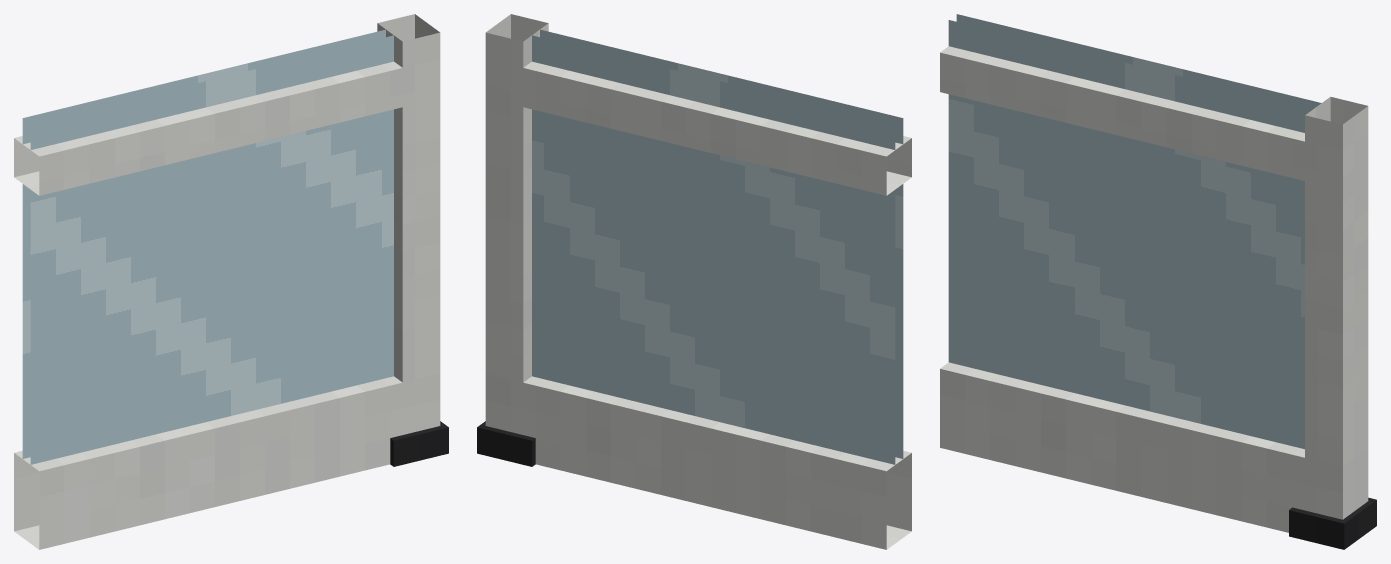
File: auto_door_wide_slider_white_c0_lower_right_open.obj
3 views of the same model, side by side, from view 1: azimuth 30°, elevation 25°; view 2: azimuth 150°, elevation 25°; view 3: azimuth 330°, elevation 25° (orthographic).
Visible parts, largest first — view 1: auto_door_wide_slider_white_c0_lower_right_open; view 2: auto_door_wide_slider_white_c0_lower_right_open; view 3: auto_door_wide_slider_white_c0_lower_right_open.
Part boxes in pixels (<box>): auto_door_wide_slider_white_c0_lower_right_open: <box>14,14,448,549</box>; auto_door_wide_slider_white_c0_lower_right_open: <box>477,14,911,549</box>; auto_door_wide_slider_white_c0_lower_right_open: <box>940,14,1376,549</box>.
Bounding box in the file's own units: 1.01 × 1 × 0.1406.
